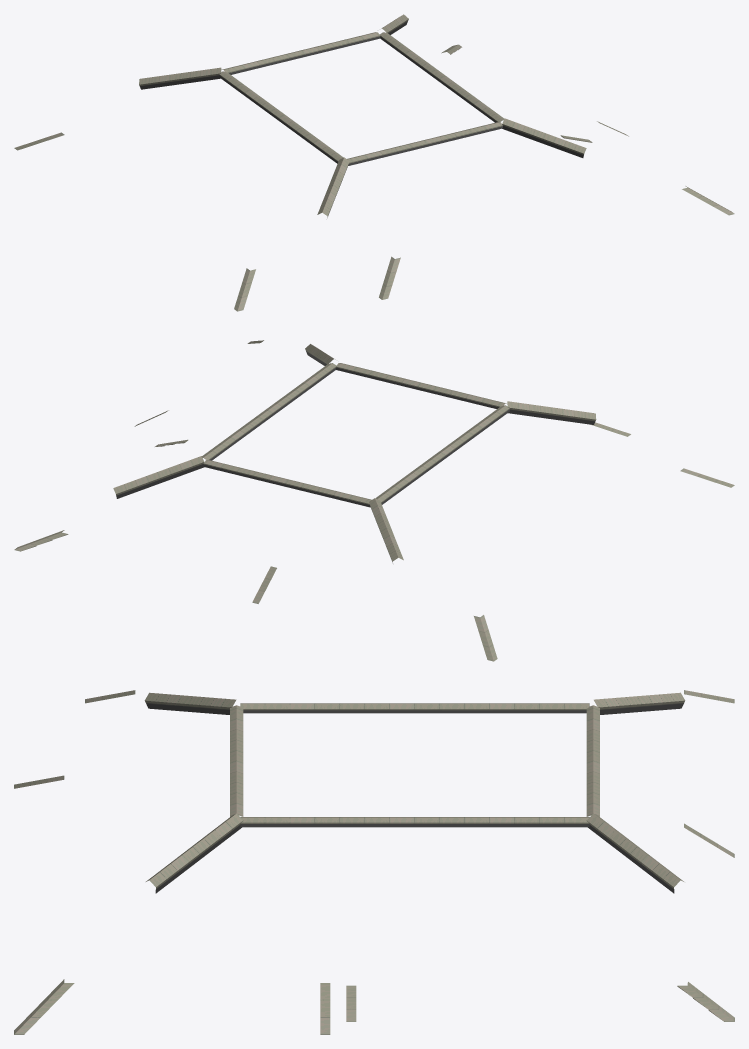
Rendered from kd_stage_135d18_4_97.glb.
3 views of the same model, one above another, from view 1: azimuth 30°, elevation 25°; view 2: azimuth 150°, elevation 25°; view 3: azimuth 270°, elevation 25° (orthographic). The views are drawn at different scales.
Visible parts, largest first — view 1: kd_stage_135d18_4_97; view 2: kd_stage_135d18_4_97; view 3: kd_stage_135d18_4_97.
Boxes of the visible parts, x1,y1,x2,y2 form: kd_stage_135d18_4_97: (14, 14, 734, 311); kd_stage_135d18_4_97: (14, 340, 734, 661); kd_stage_135d18_4_97: (14, 690, 734, 1034).
Bounding box in the file's own units: 11.8 × 1.97 × 10.71.
Materials: 1 (1 with a texture image).
